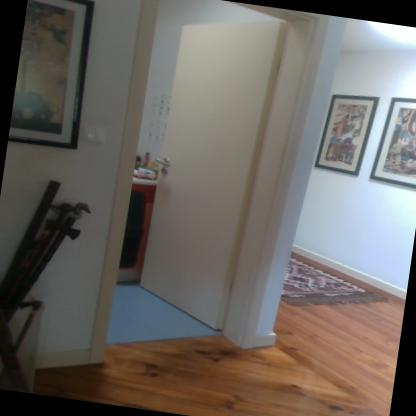open: (85, 0, 304, 380)
